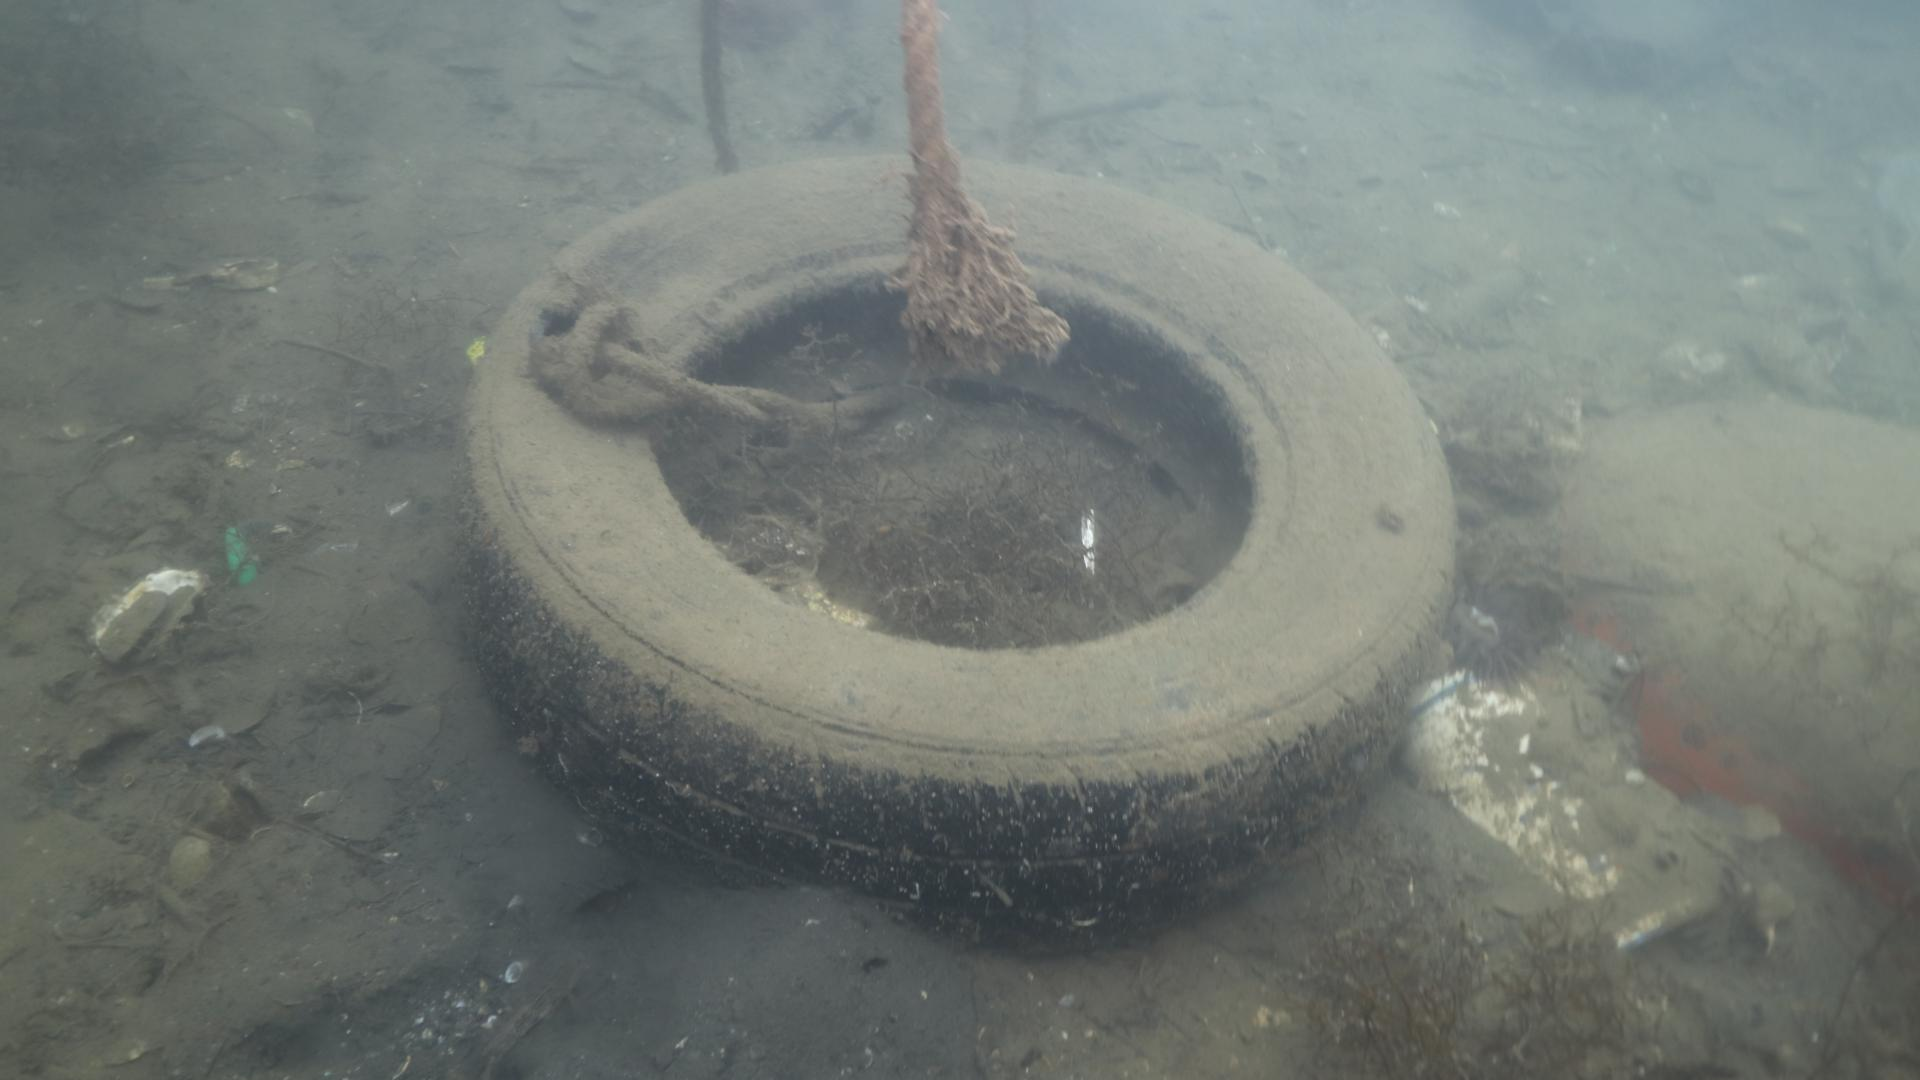bundle of ropes: (529, 272, 909, 433)
rope: (897, 0, 956, 170)
tire: (468, 152, 1462, 945)
